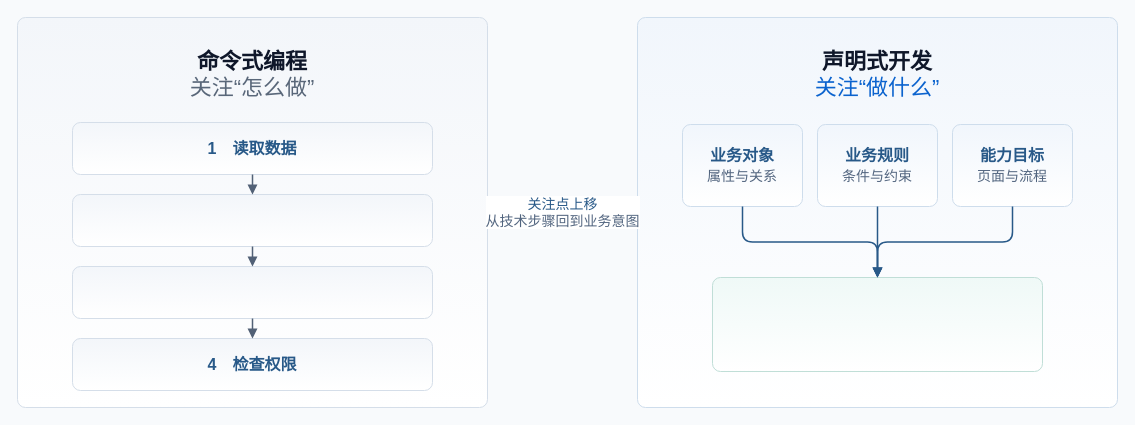
This 1135x425 diagram has some shape labels left out. The shapes that lost their labels are listed below. From the top down, each one's centre as x and y in pixels, then its label:
At [252,220]: "2 判断条件".
At [252,292]: "3 调用处理".
At [877,324]: "平台解释结构化模型 完成通用的数据、页面、接口、流程与权限实现".
